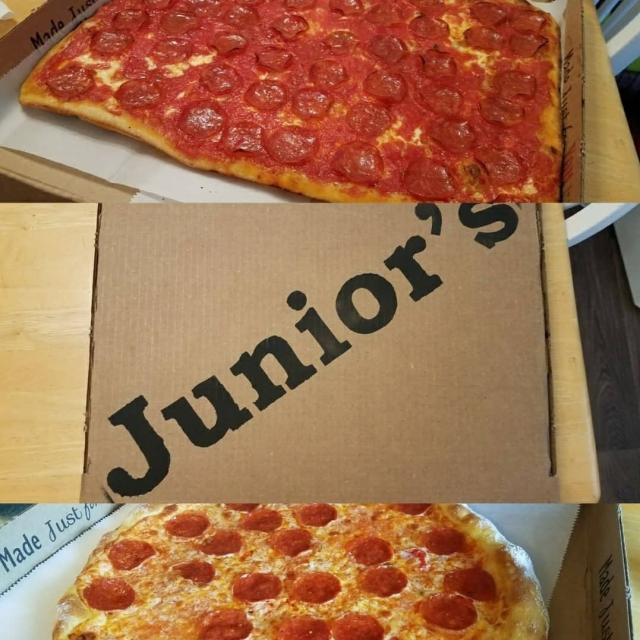pepperoni: (422, 592, 484, 635), (360, 65, 416, 110), (191, 602, 259, 639), (401, 152, 454, 199), (471, 144, 525, 190), (83, 572, 140, 612), (198, 523, 252, 564), (177, 95, 228, 138), (332, 138, 379, 184), (424, 108, 475, 149), (267, 122, 316, 164), (342, 92, 391, 134), (440, 561, 496, 597), (409, 42, 462, 79), (116, 75, 165, 115), (244, 69, 286, 115), (331, 605, 386, 640), (494, 65, 546, 102), (364, 28, 408, 70), (49, 61, 95, 101), (147, 30, 190, 72), (292, 567, 343, 602), (196, 55, 238, 97), (168, 504, 214, 541), (110, 532, 156, 569), (406, 11, 456, 45), (268, 526, 316, 561), (310, 52, 350, 93), (90, 22, 129, 64), (298, 499, 350, 530), (226, 113, 264, 155), (291, 82, 330, 122), (173, 551, 217, 586), (480, 96, 522, 132), (360, 563, 403, 598), (461, 21, 506, 54), (321, 24, 368, 55), (422, 522, 460, 560), (418, 81, 459, 116), (160, 6, 208, 35), (210, 26, 252, 59), (232, 568, 275, 600), (112, 6, 161, 33), (258, 39, 291, 75), (273, 10, 308, 43), (349, 531, 386, 562), (468, 0, 512, 26), (282, 615, 326, 640), (242, 504, 278, 533), (507, 28, 542, 56), (228, 2, 260, 30), (513, 6, 545, 30)
pizza: (18, 0, 560, 204), (49, 503, 549, 640)
